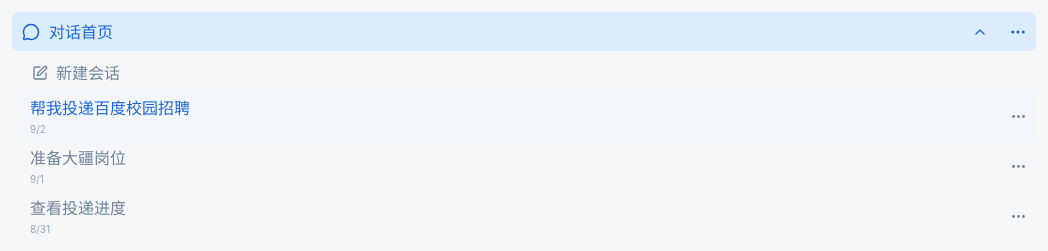
Test case: ConversationNavigation › disables current deletion and clear while the conversation is busy
Click the button named "对话首页更多操作": (1018, 32) [1000, 12, 1036, 51]
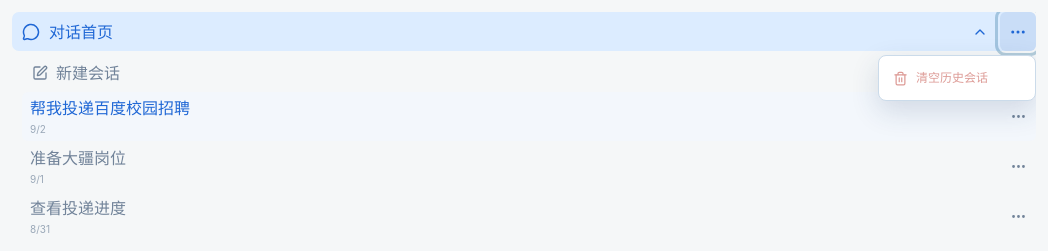
Expected: the menu item "清空历史会话" is disabled, [884, 61, 1030, 95]
Press Escape
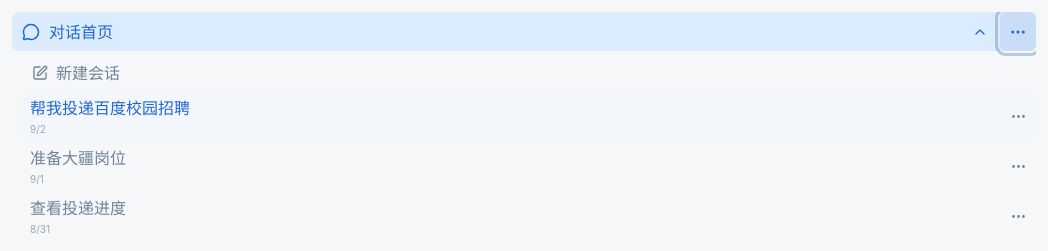
Click the button named "会话操作：帮我投递百度校园招聘": (1018, 116) [1000, 92, 1036, 141]
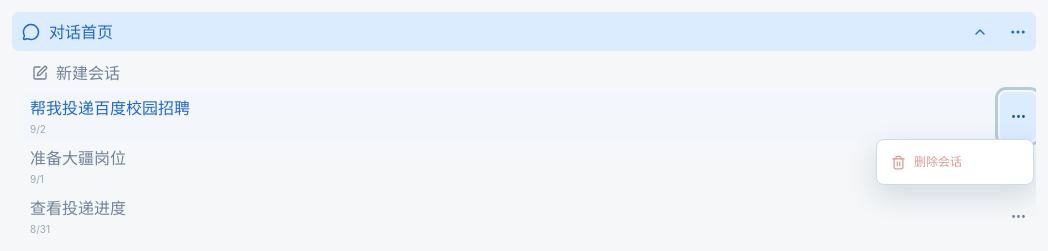
Expected: the menu item "删除会话" is disabled, [882, 145, 1028, 179]
